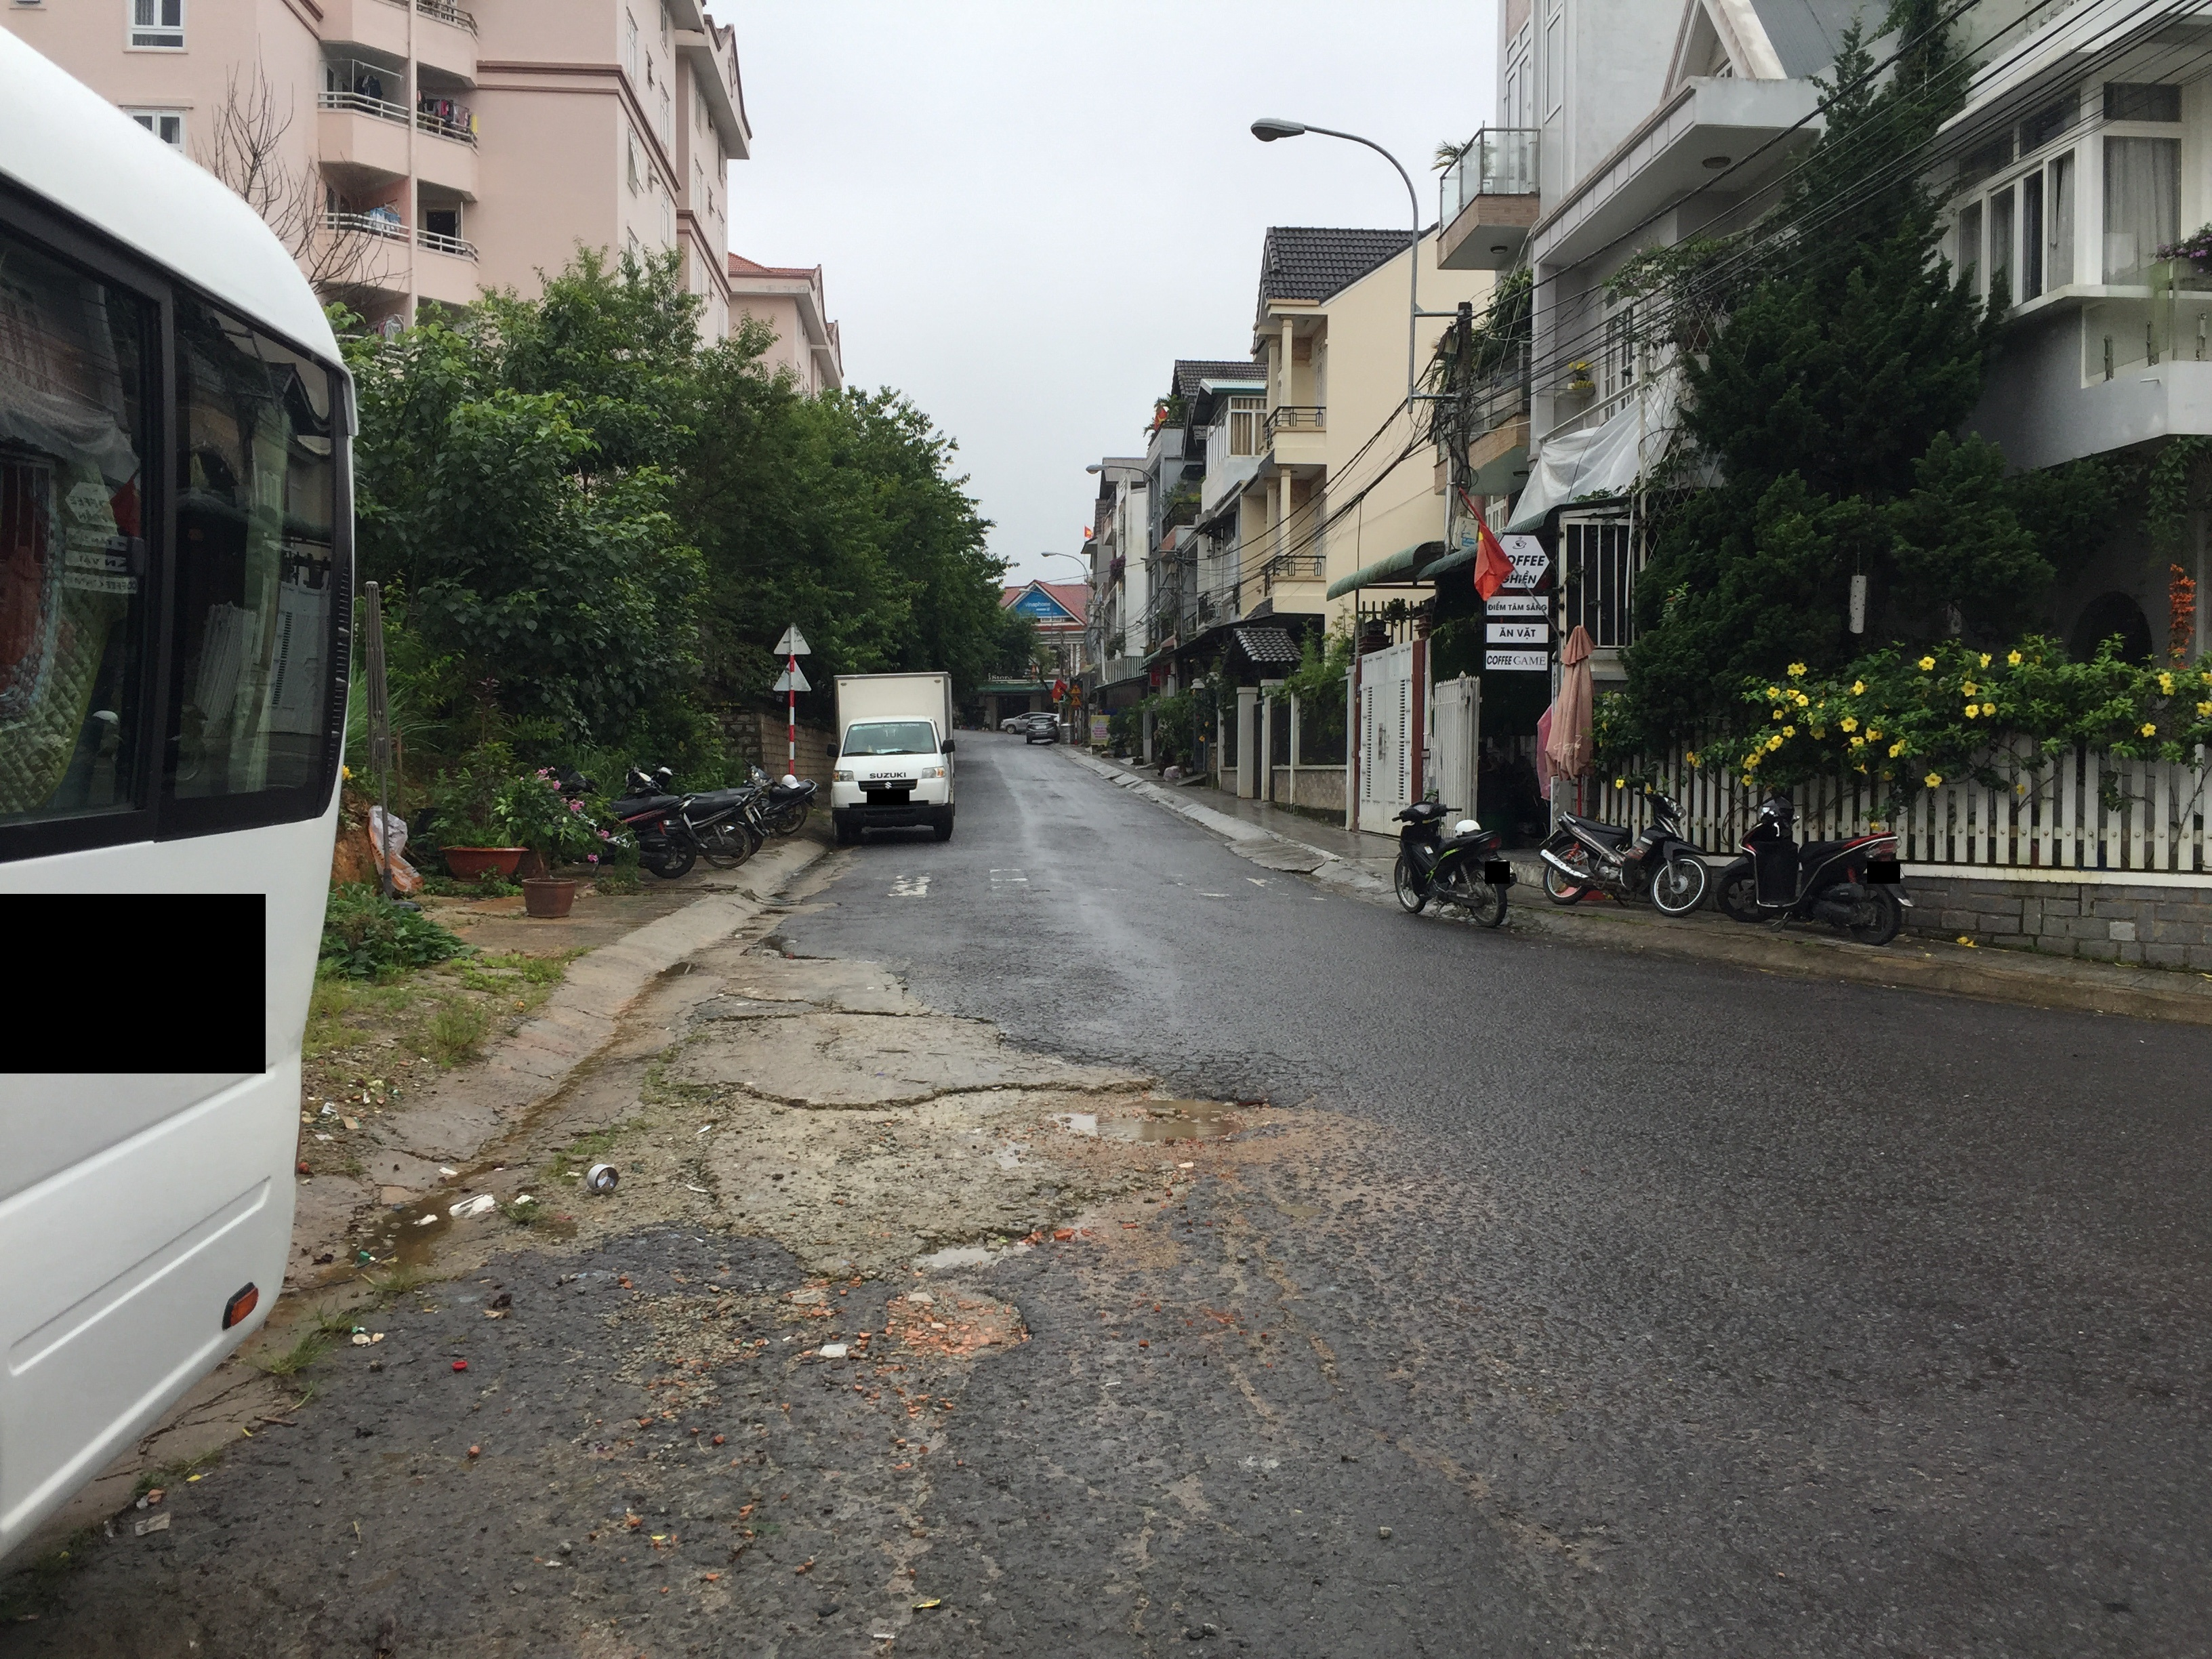hole: (867, 1284, 1036, 1370), (1040, 1086, 1275, 1147), (900, 1222, 1049, 1277), (995, 1037, 1150, 1073)
